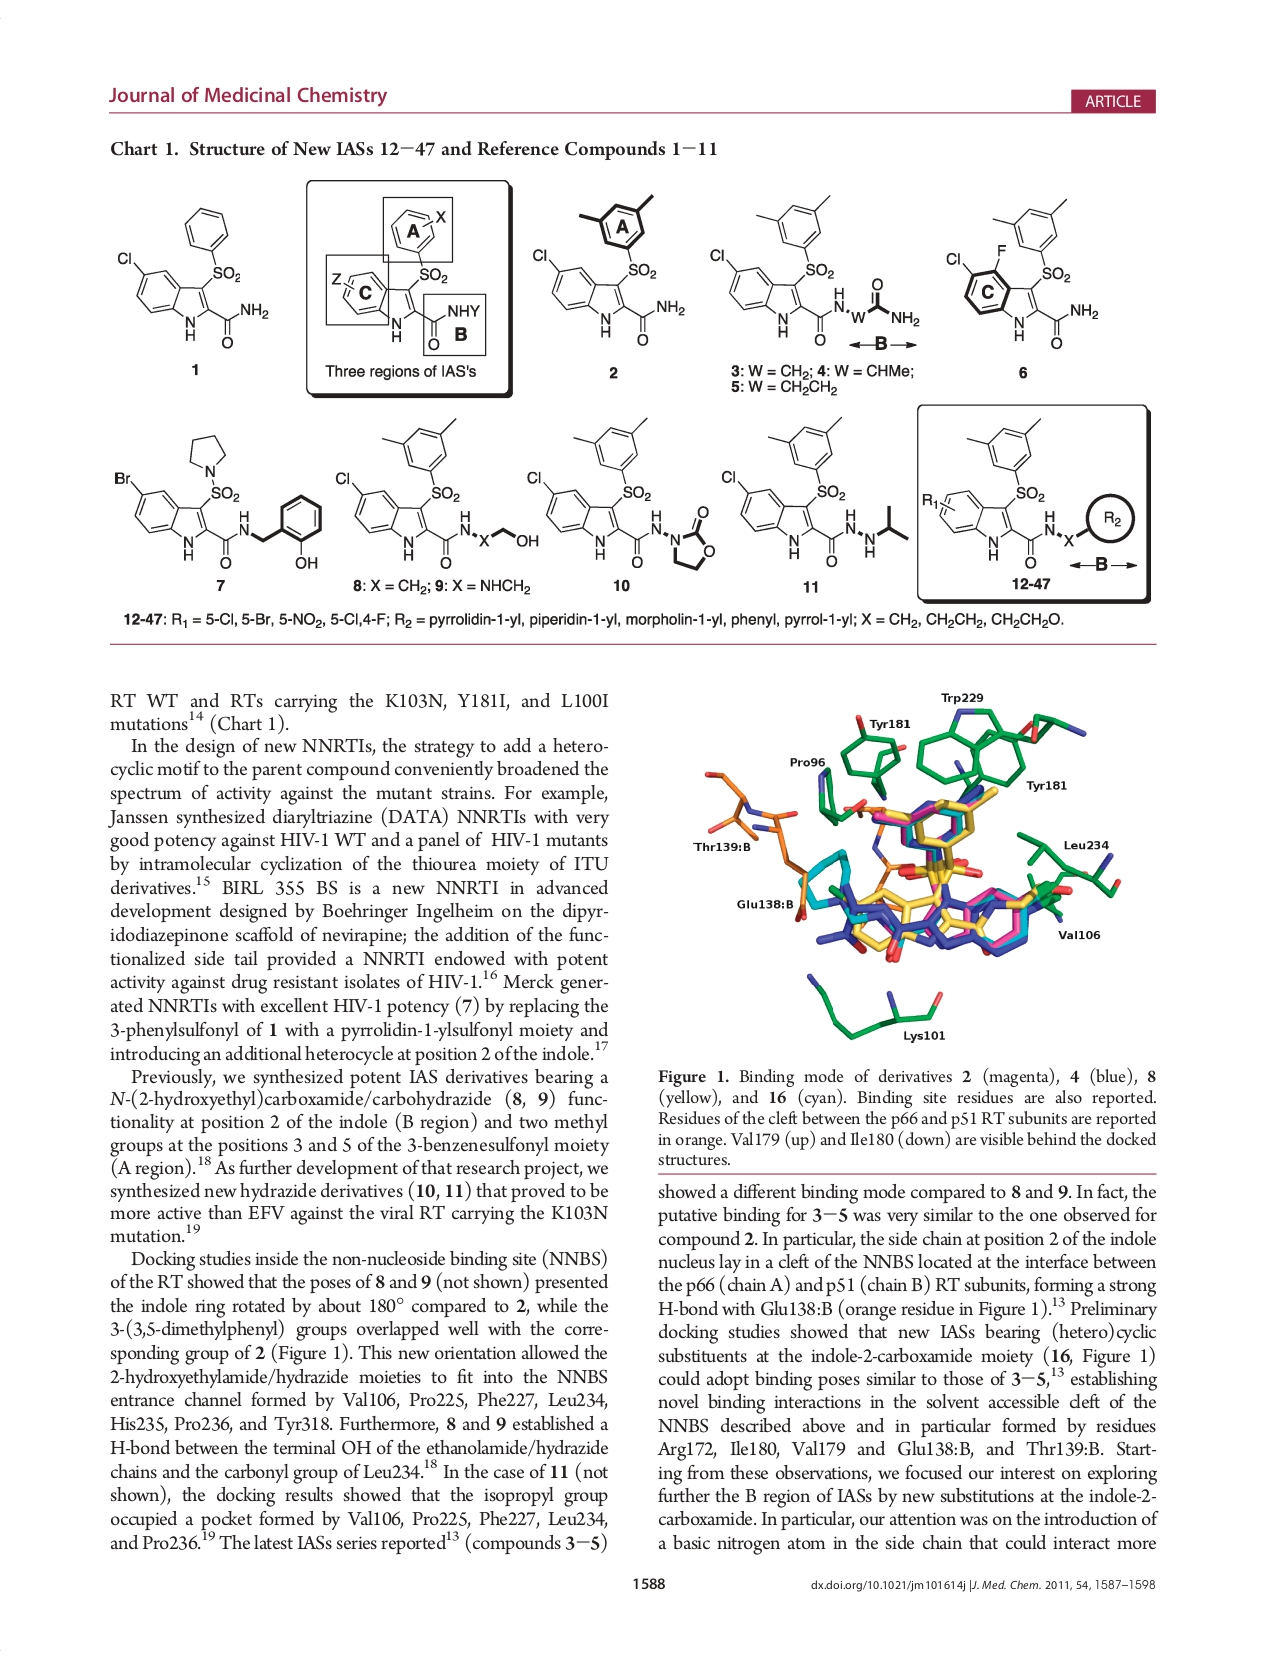exist_molecular: (706, 192, 922, 348), (920, 418, 1136, 569), (334, 416, 540, 569), (109, 431, 326, 575), (525, 415, 715, 573), (718, 415, 911, 569), (527, 193, 688, 348), (943, 195, 1100, 351), (113, 203, 271, 351), (328, 207, 484, 351)
